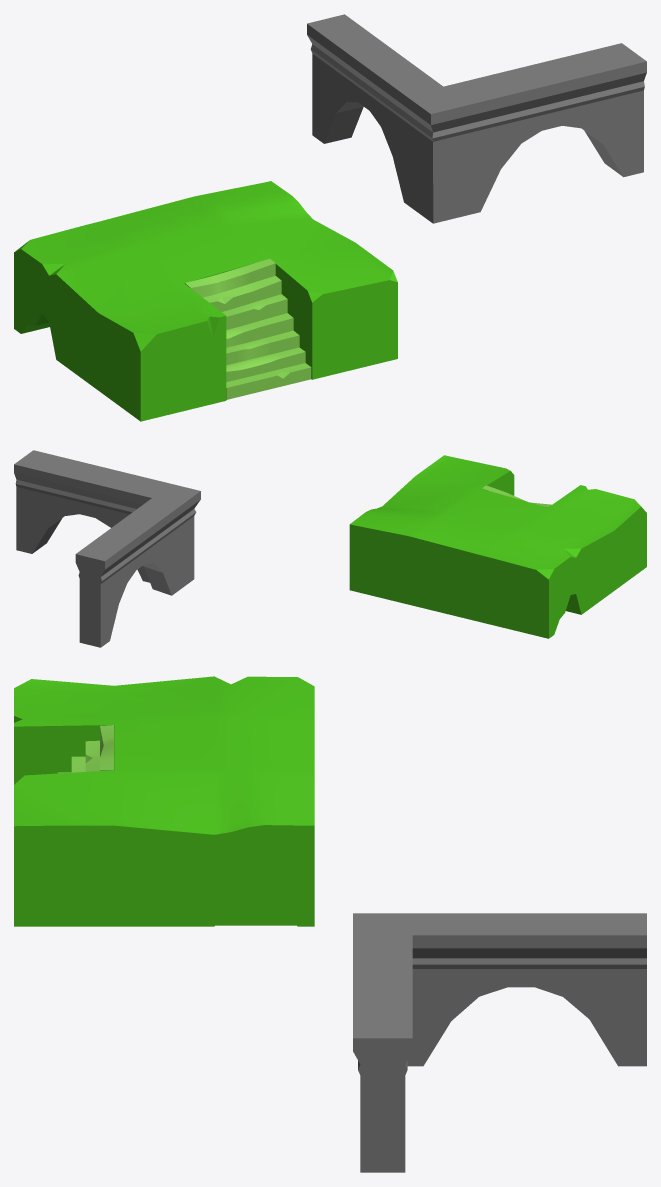
The model's file is Platform&CornerArch_low.fbx.
The picture shows the model from 3 angles, top to bottom: view 1: azimuth 30°, elevation 25°; view 2: azimuth 150°, elevation 25°; view 3: azimuth 270°, elevation 25°; orthographic projection. The views are drawn at different scales.
Visible parts, largest first — view 1: Corner_low; view 2: Corner_low; view 3: Corner_low.
Part boxes in pixels (x1,y1,x2,y2): Corner_low: (14, 14, 646, 421); Corner_low: (14, 450, 646, 647); Corner_low: (14, 676, 646, 1172).
Size of the model in its own units: 479 by 79.72 by 341.
